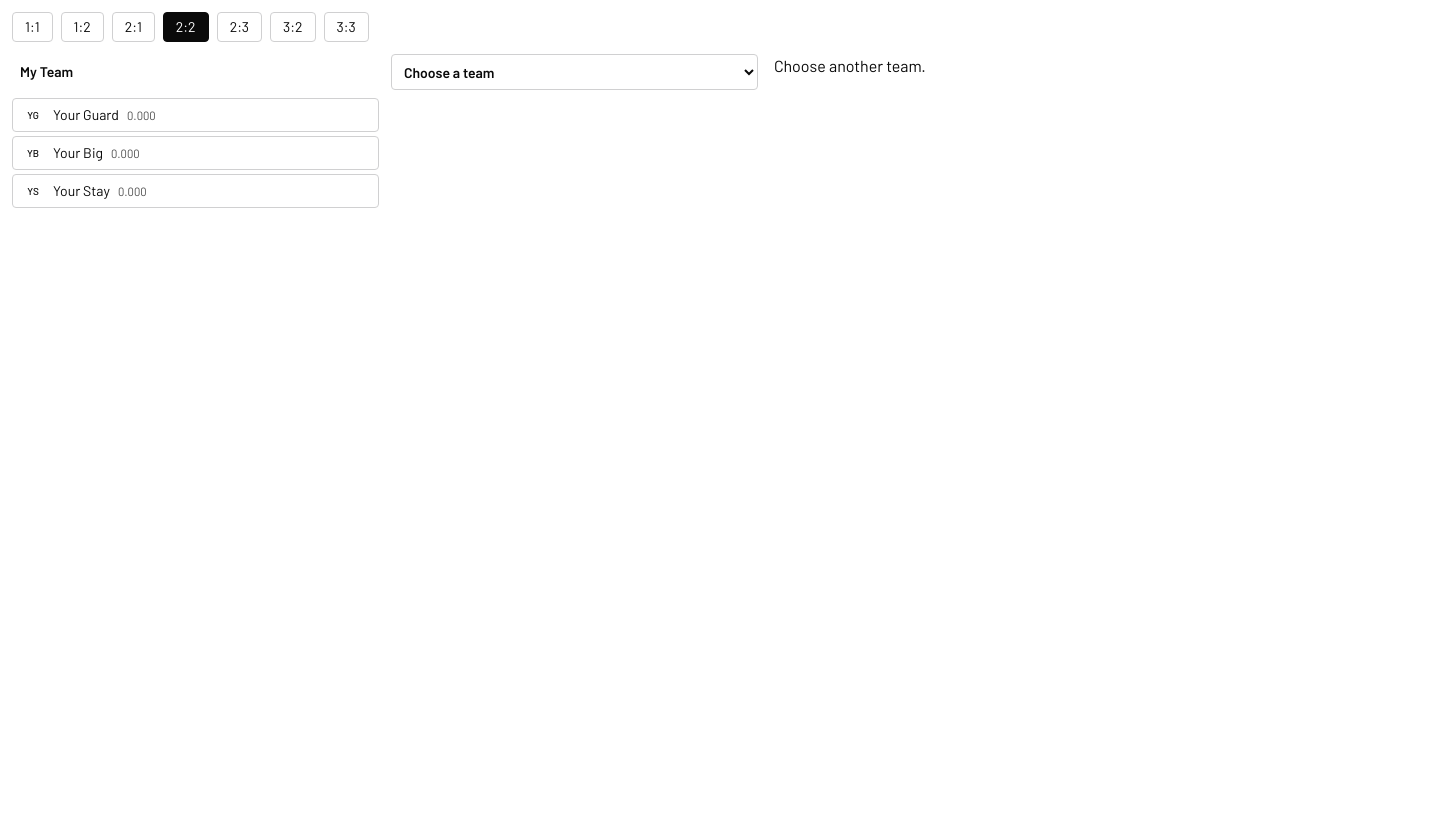
Scenario: TradeSimulation › waits for a drop when two players are received
This screenshot has width=1452, height=822.
Click the button "1:2" at (82, 27), box 60,12 -> 104,42
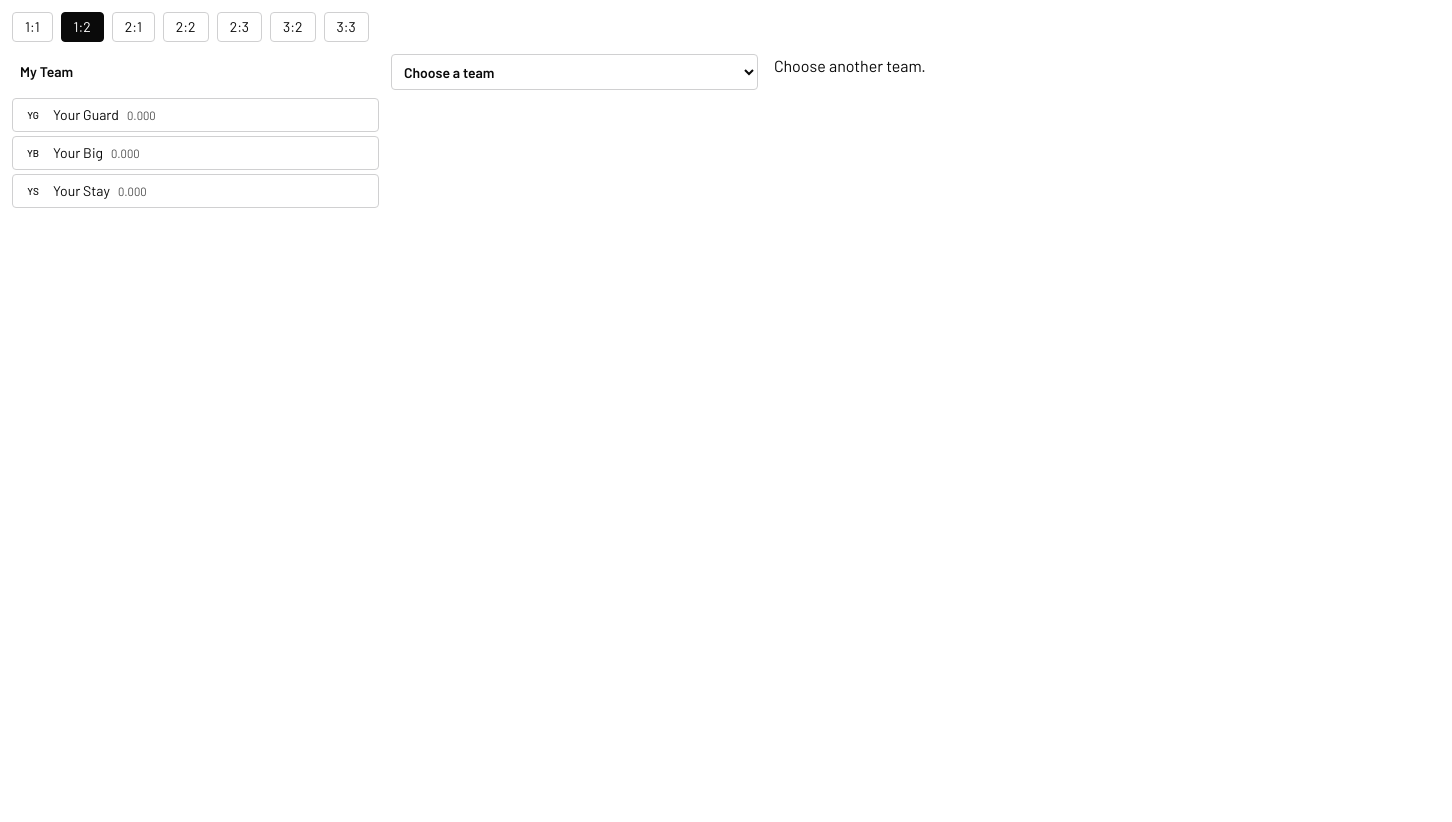
Select "Rivals" in the dropdown named "Team" at (574, 72), box 391,54 -> 758,90
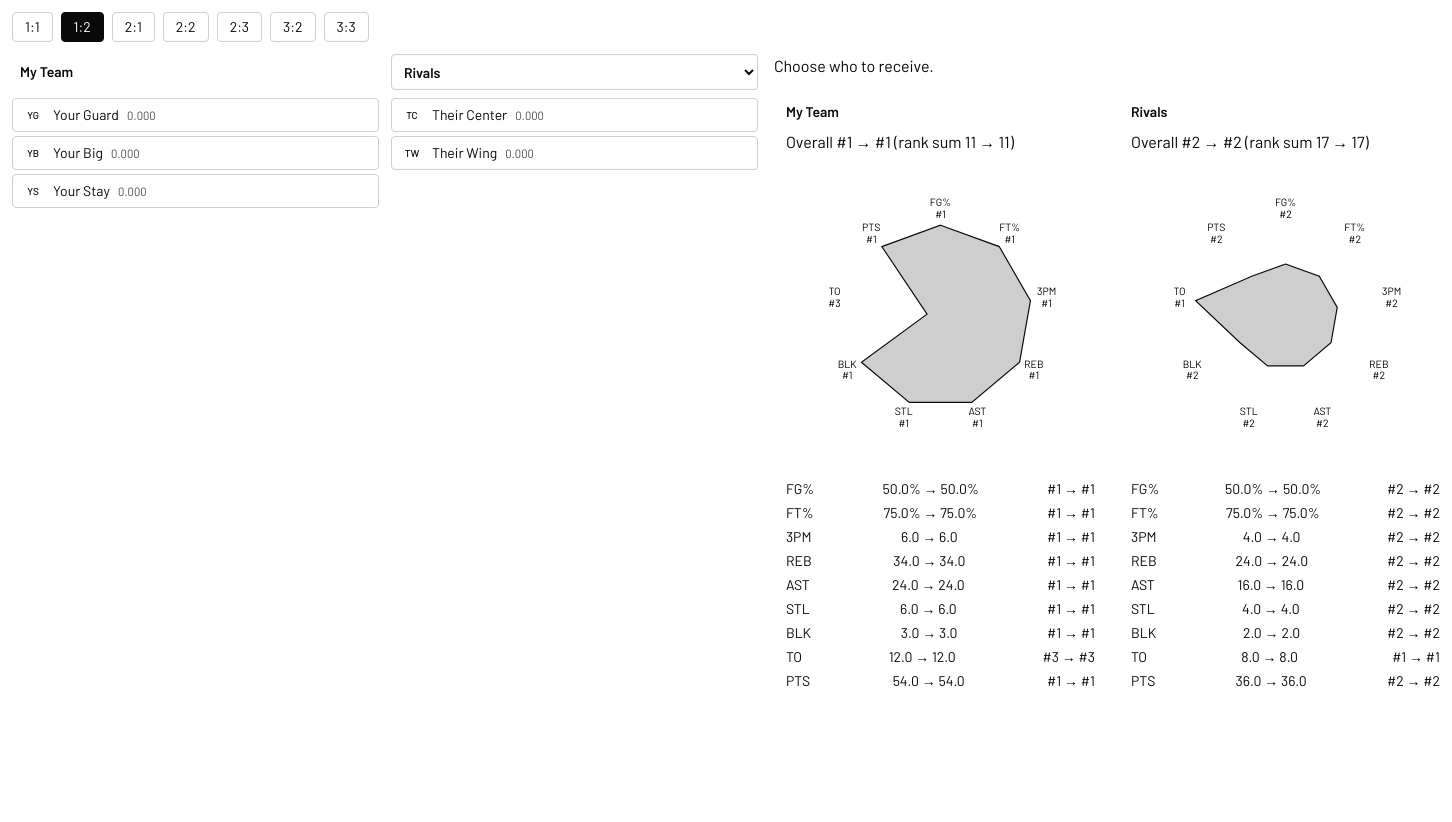
Click the button "TC Their Center 0.000" at (470, 114), box 391,98 -> 758,132
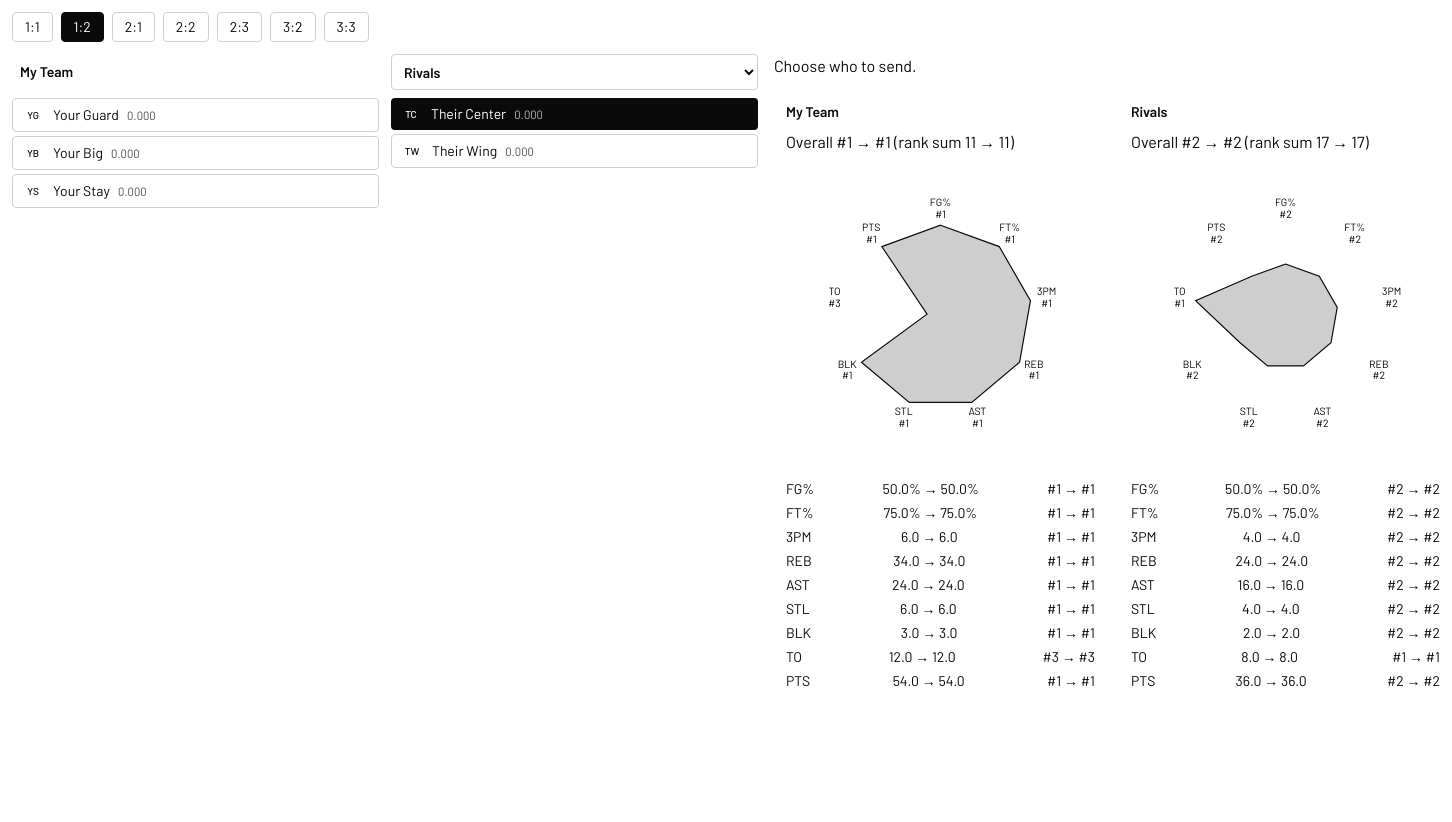
Click the button "TW Their Wing 0.000" at (465, 150), box 391,134 -> 758,168
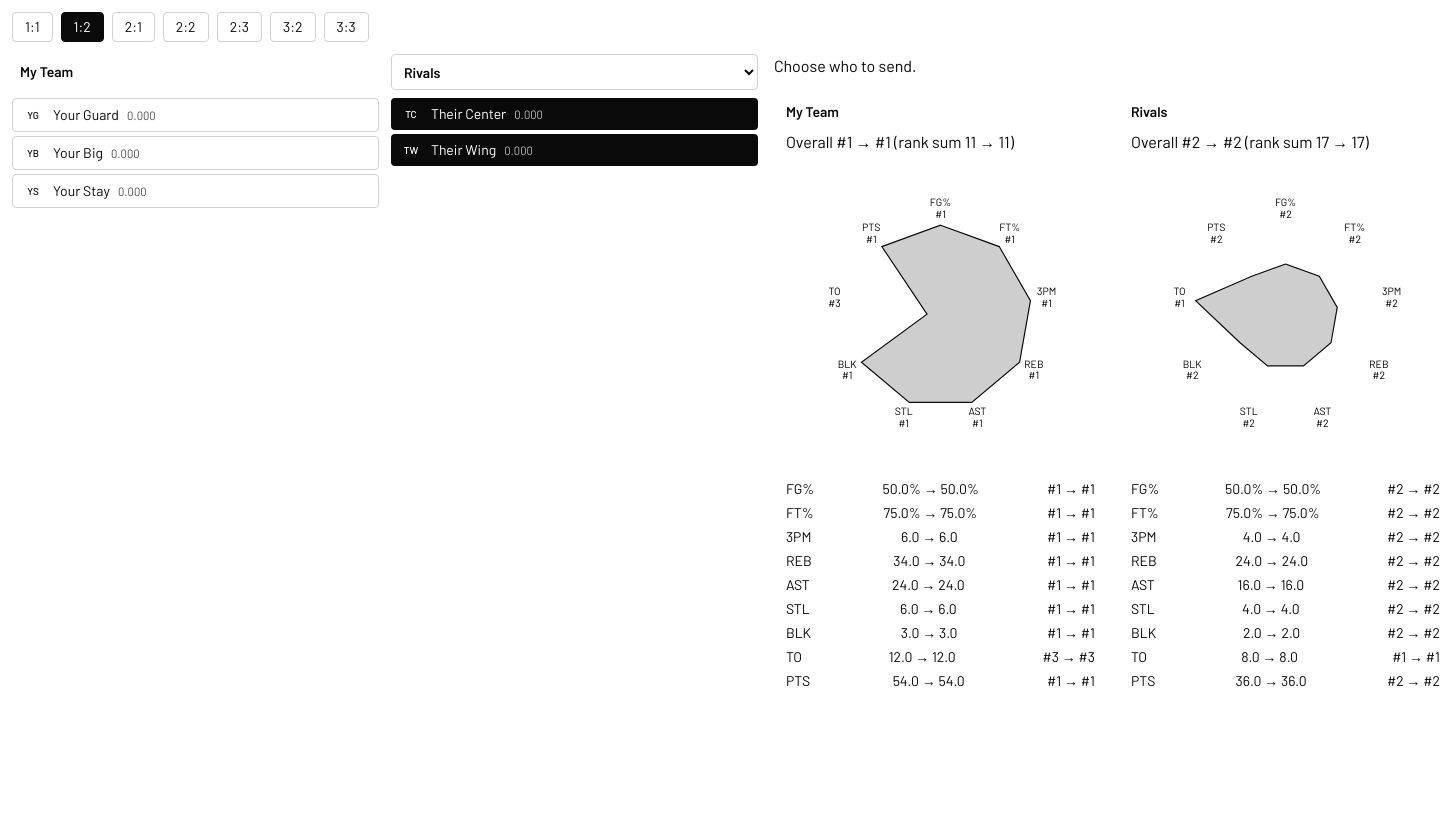
Click the button "YG Your Guard 0.000" at (86, 114), box 12,98 -> 379,132
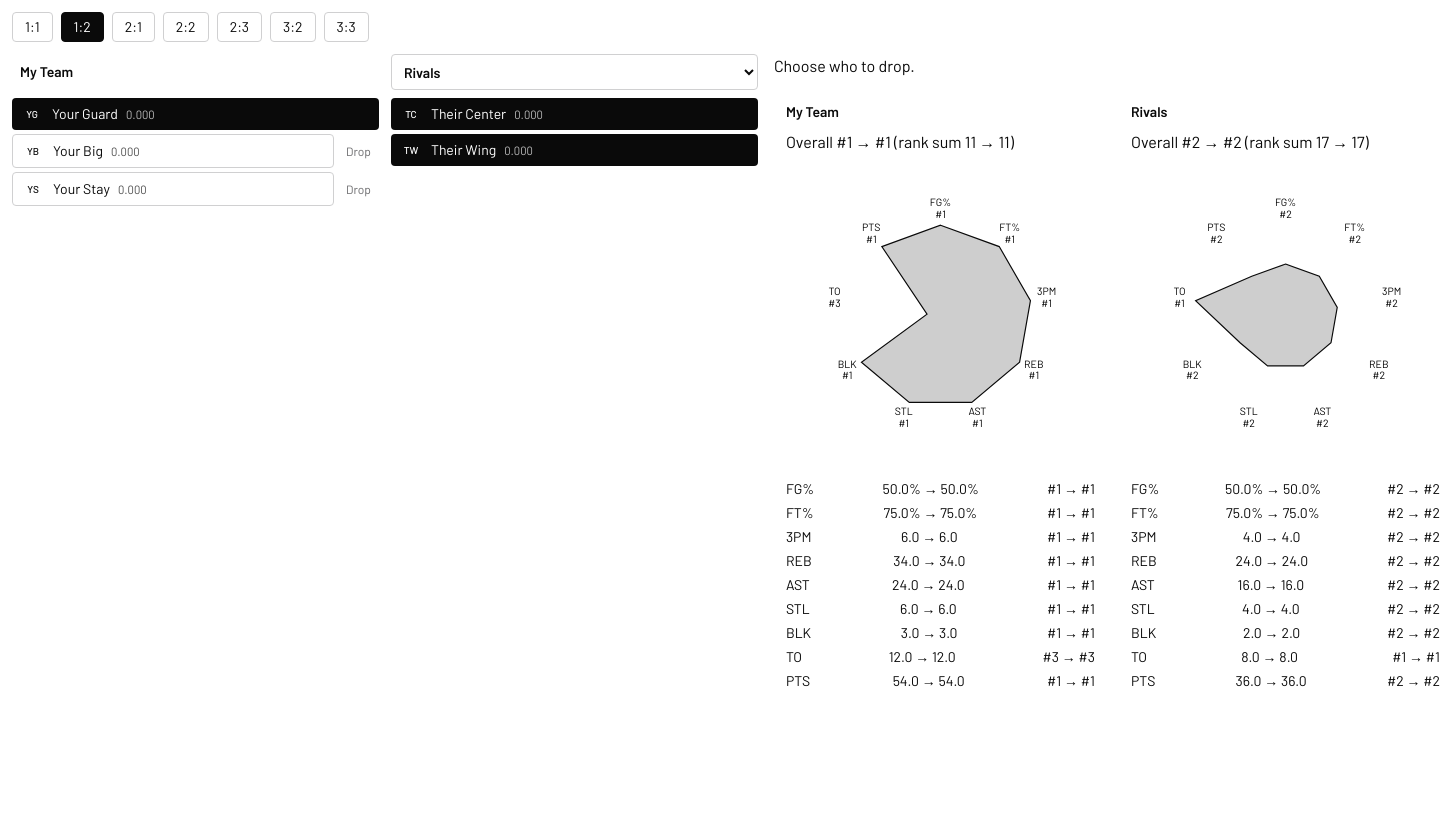
Check: the icon "FG%#1 FT%#1 3PM#1 REB#1 AST#1 STL#1 BLK#1 TO#3 PTS#1" is shown, box 786,162 -> 1095,471
Check: the text "Choose who to drop." is shown, box 774,56 -> 915,75
Check: the number of buttons "Drop" is 2
Click the 1st button "Drop" at (358, 151), box 338,139 -> 379,163
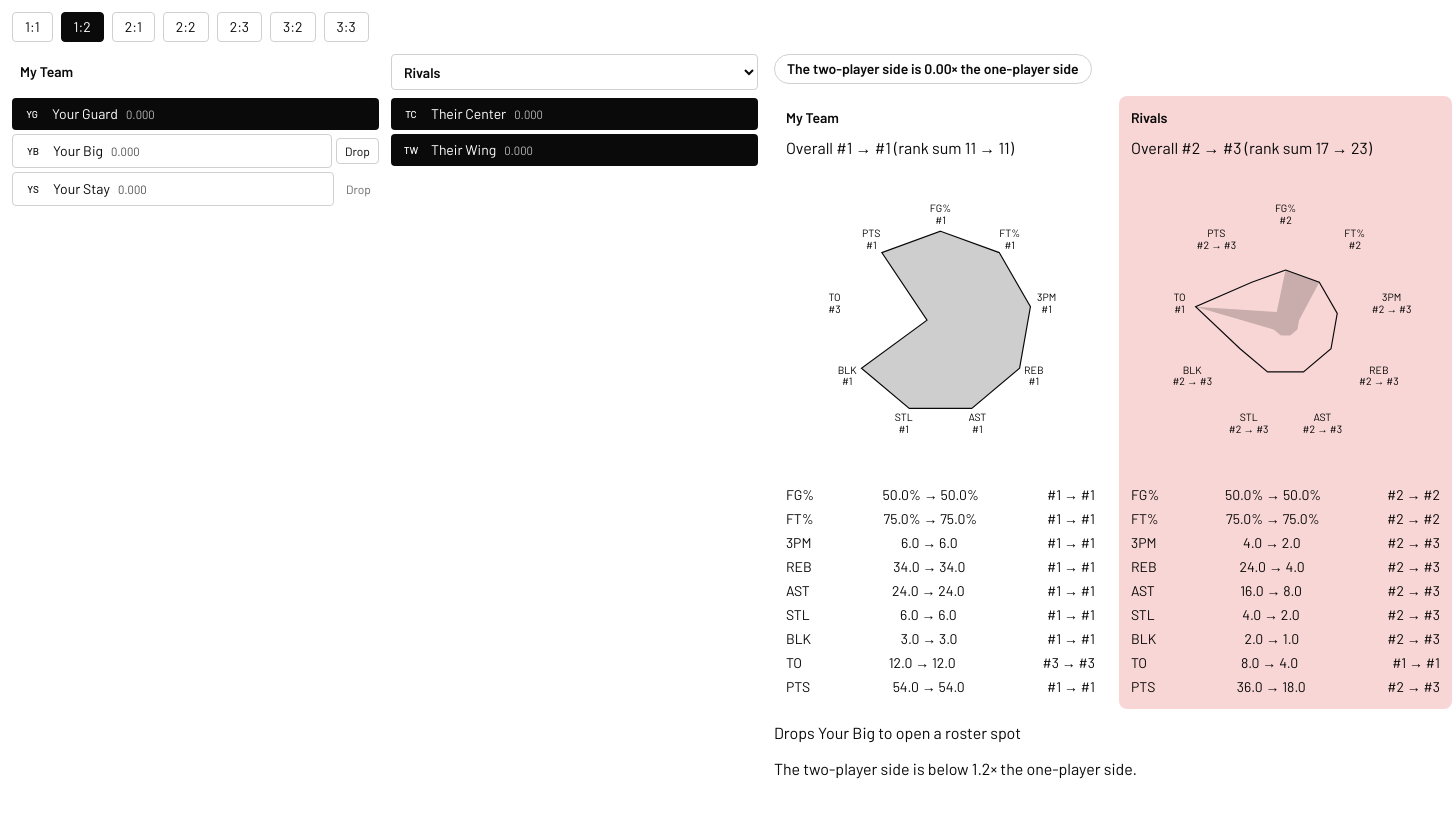
Check: the text "Overall #1 → #1 (rank sum 11 → 11)" is shown, box 786,138 -> 1014,157
Check: the text "Drops Your Big to open a roster spot" is shown, box 774,723 -> 1021,742
